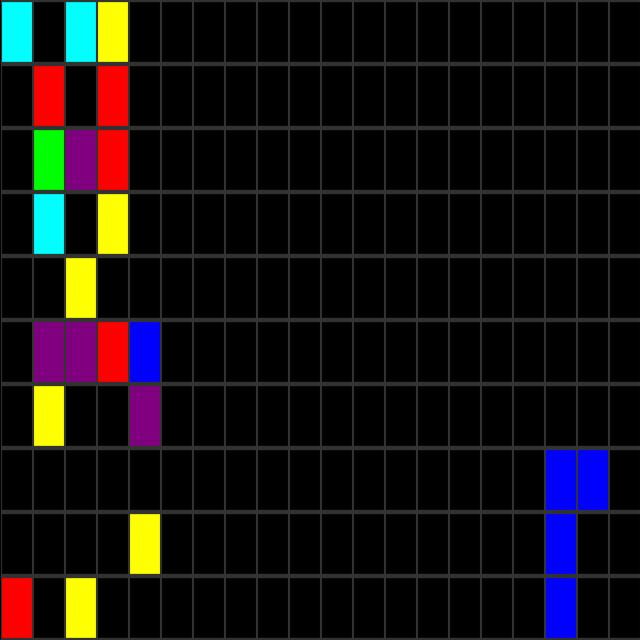Tetrimino_S: (544, 452, 610, 638)
